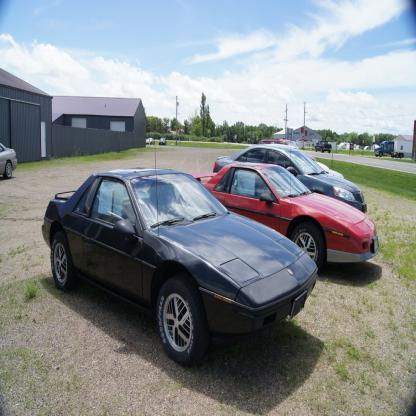car: (40, 146, 320, 365), (189, 163, 381, 269), (212, 144, 366, 212), (252, 139, 342, 179), (0, 142, 18, 184), (313, 143, 332, 155), (158, 136, 168, 145), (147, 137, 156, 144)
